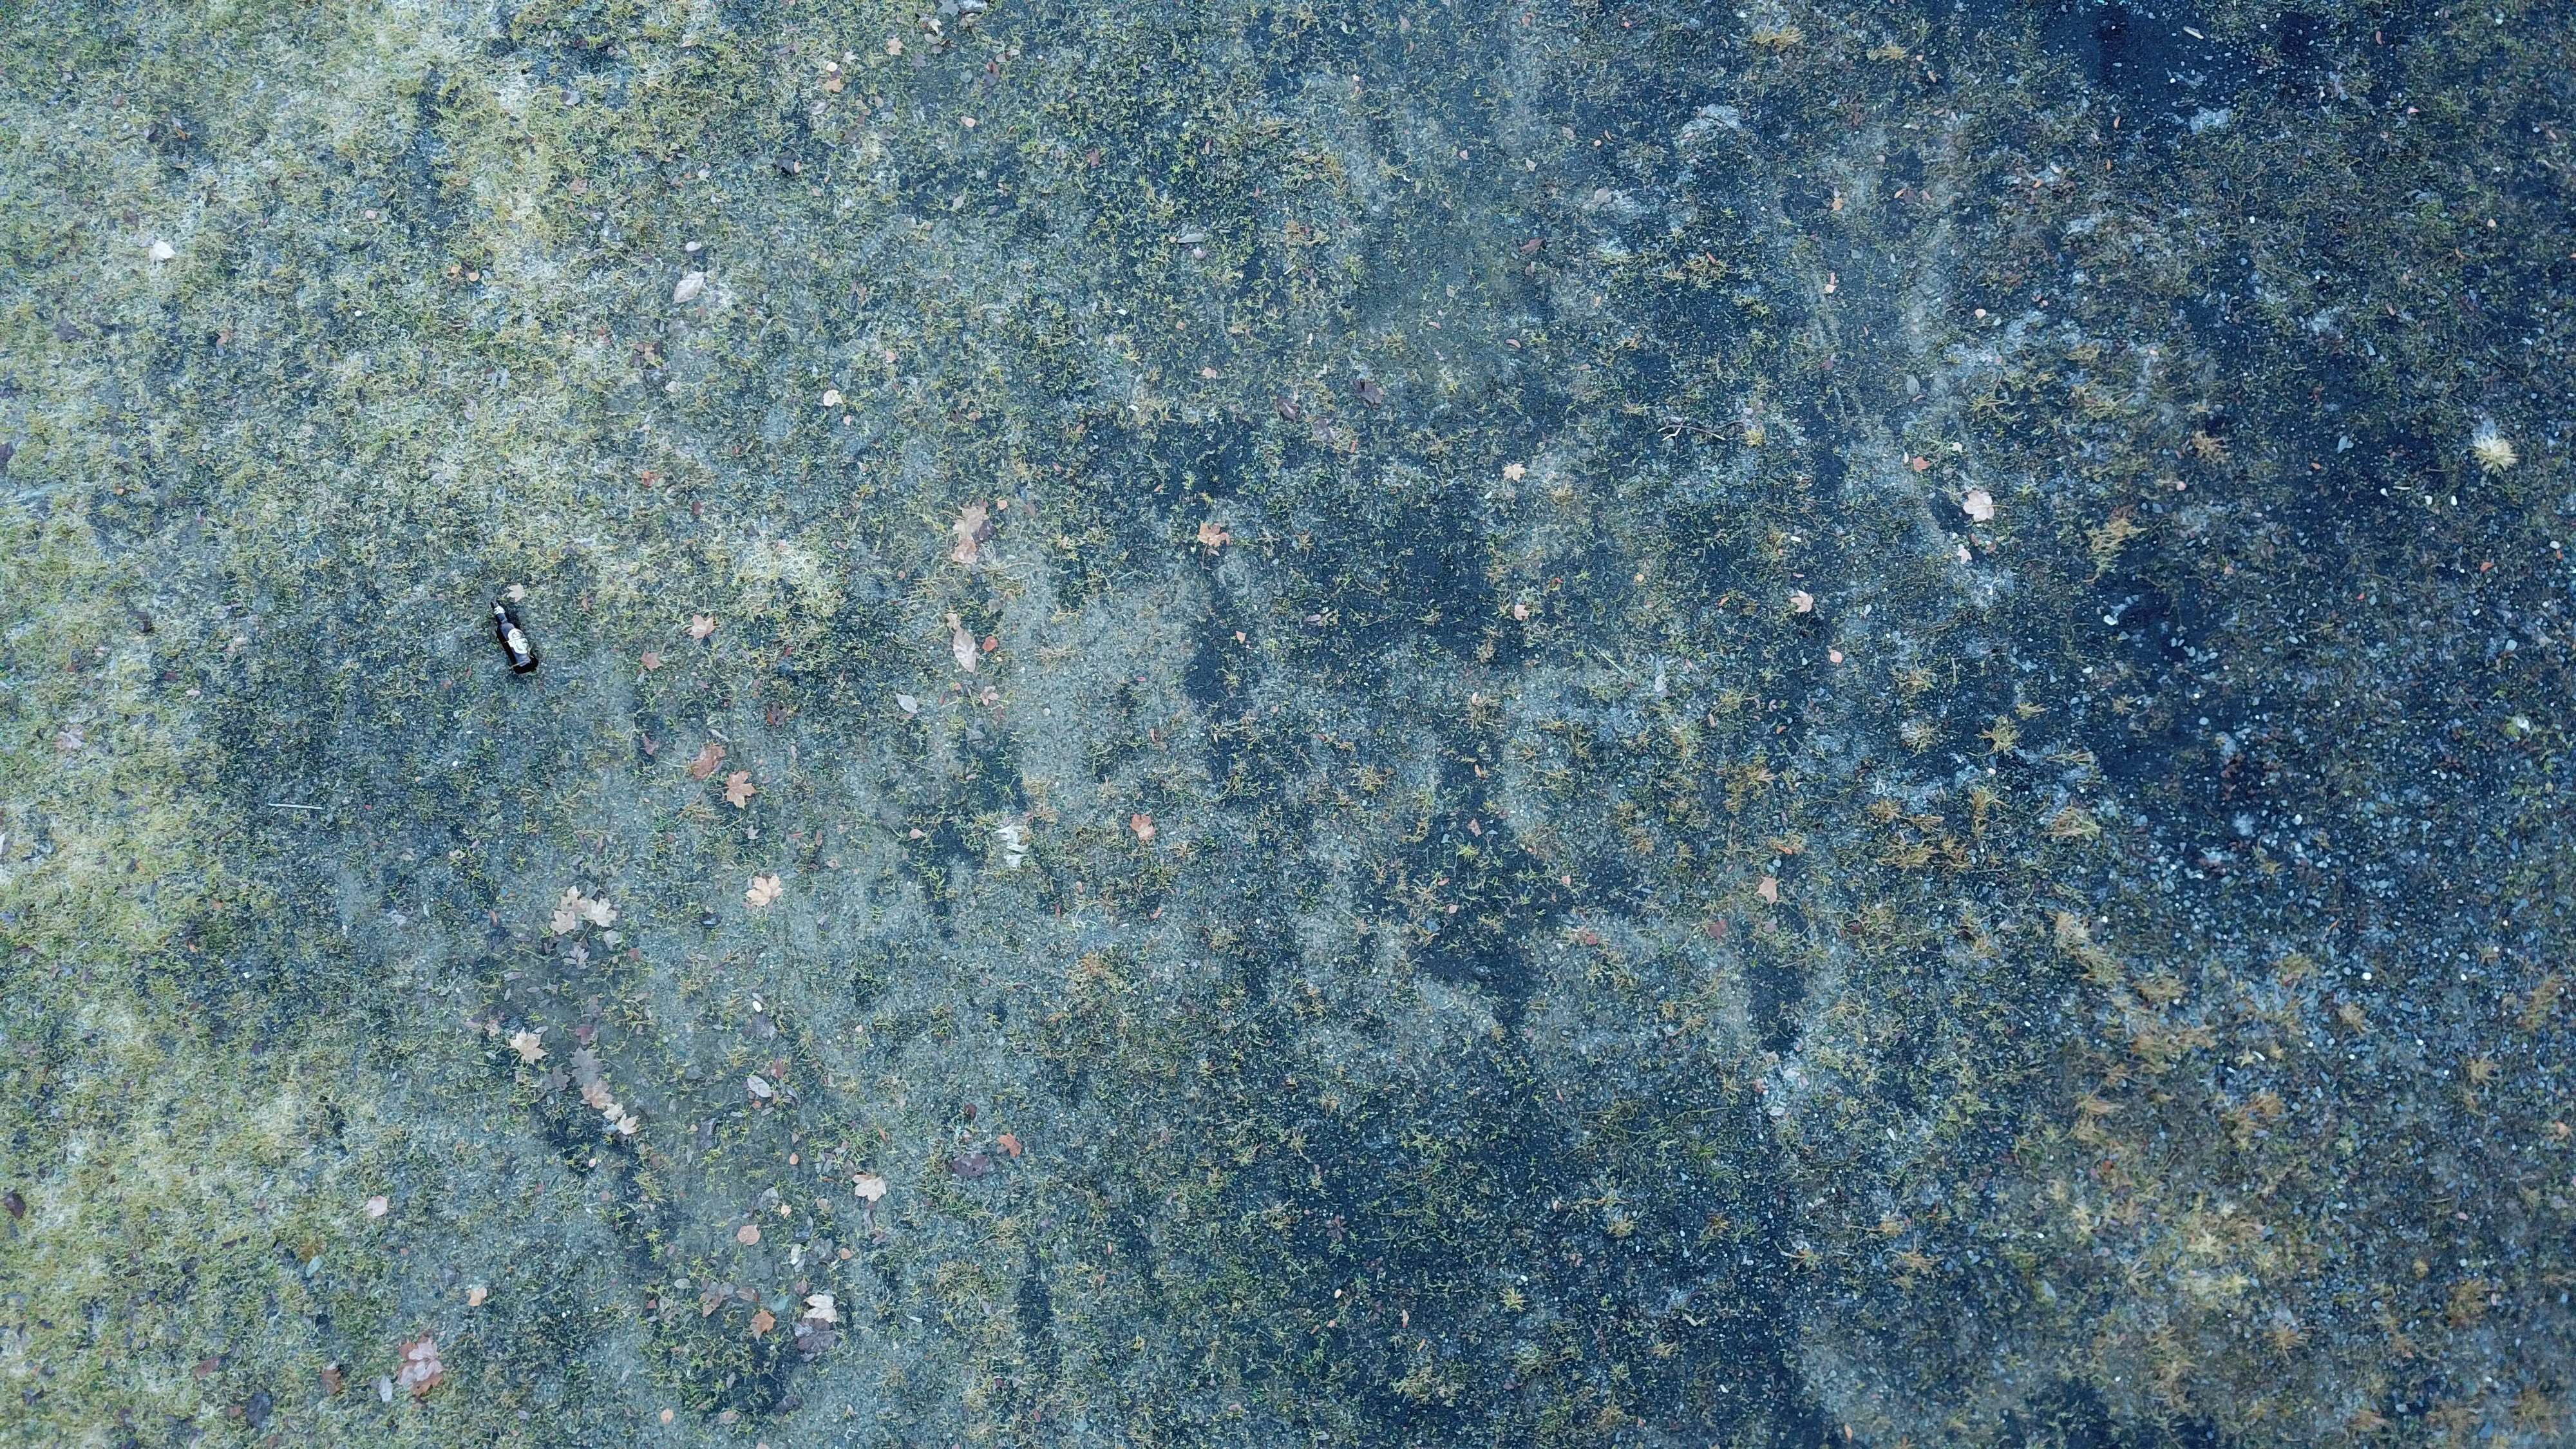Other: (483, 593, 547, 679)
